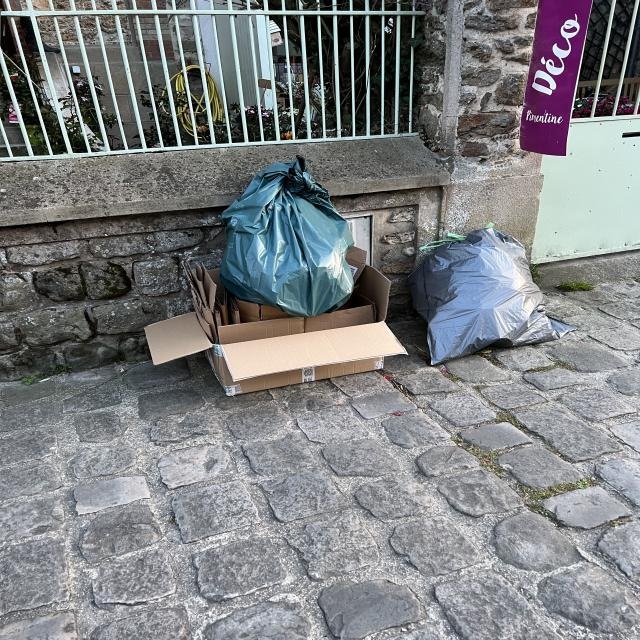Garbage bag: (224, 160, 356, 316), (411, 238, 565, 362)
Other Carton: (138, 317, 408, 397)
